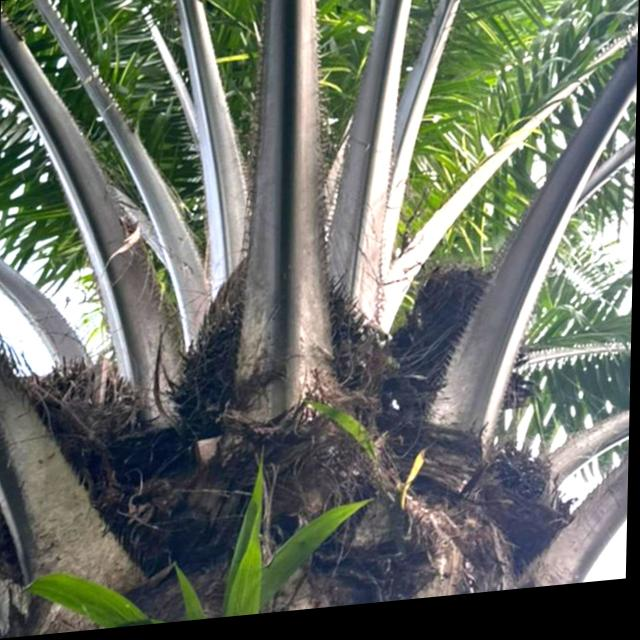unripe: (180, 229, 378, 447), (17, 349, 161, 536), (420, 260, 537, 426), (484, 449, 574, 566)
